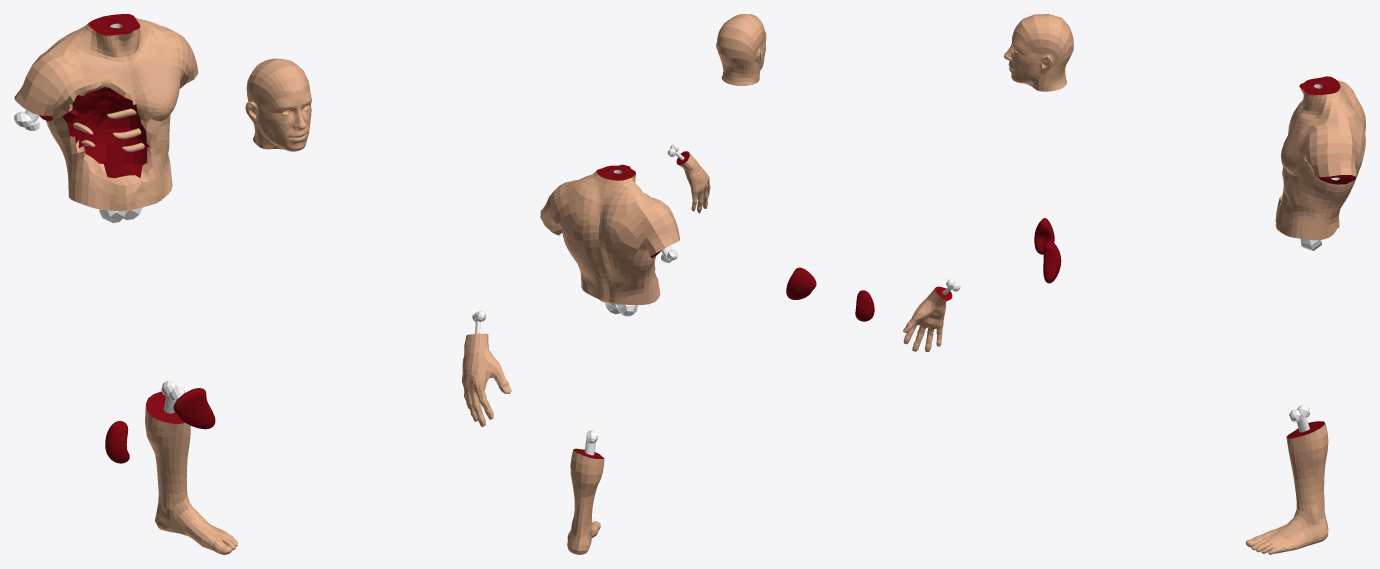
The model's file is human-parts.fbx.
3 renders of one model, left to right at view 1: azimuth 30°, elevation 25°; view 2: azimuth 150°, elevation 25°; view 3: azimuth 270°, elevation 25°, orthographic. The views are drawn at different scales.
Parts seen in each view (by area): view 1: Low_Poly_Male_body:Group2.006, Low_Poly_Male_body:Group2.003, Low_Poly_Male_body:Group2.008, Low_Poly_Male_body:Group2.004, Sphere.001, Sphere; view 2: Low_Poly_Male_body:Group2.006, Low_Poly_Male_body:Group2.008, Low_Poly_Male_body:Group2.003, Low_Poly_Male_body:Group2.004, Sphere.001, Sphere; view 3: Low_Poly_Male_body:Group2.006, Low_Poly_Male_body:Group2.003, Low_Poly_Male_body:Group2.008, Low_Poly_Male_body:Group2.004, Sphere.001.
Boxes of the visible parts, left/top/right/bottom form: Low_Poly_Male_body:Group2.006: left=14, top=14, right=198, bottom=223; Low_Poly_Male_body:Group2.003: left=145, top=381, right=237, bottom=554; Low_Poly_Male_body:Group2.008: left=245, top=58, right=311, bottom=151; Low_Poly_Male_body:Group2.004: left=461, top=310, right=511, bottom=426; Sphere.001: left=173, top=388, right=215, bottom=429; Sphere: left=105, top=421, right=129, bottom=463; Low_Poly_Male_body:Group2.006: left=540, top=164, right=679, bottom=316; Low_Poly_Male_body:Group2.008: left=716, top=14, right=766, bottom=85; Low_Poly_Male_body:Group2.003: left=567, top=430, right=604, bottom=554; Low_Poly_Male_body:Group2.004: left=667, top=144, right=710, bottom=213; Sphere.001: left=786, top=267, right=816, bottom=299; Sphere: left=855, top=290, right=874, bottom=321; Low_Poly_Male_body:Group2.006: left=1275, top=76, right=1365, bottom=250; Low_Poly_Male_body:Group2.003: left=1245, top=405, right=1328, bottom=554; Low_Poly_Male_body:Group2.008: left=1004, top=14, right=1073, bottom=91; Low_Poly_Male_body:Group2.004: left=903, top=279, right=960, bottom=351; Sphere.001: left=1043, top=240, right=1061, bottom=283.
Size of the model in its own units: 101 by 180 by 150.
